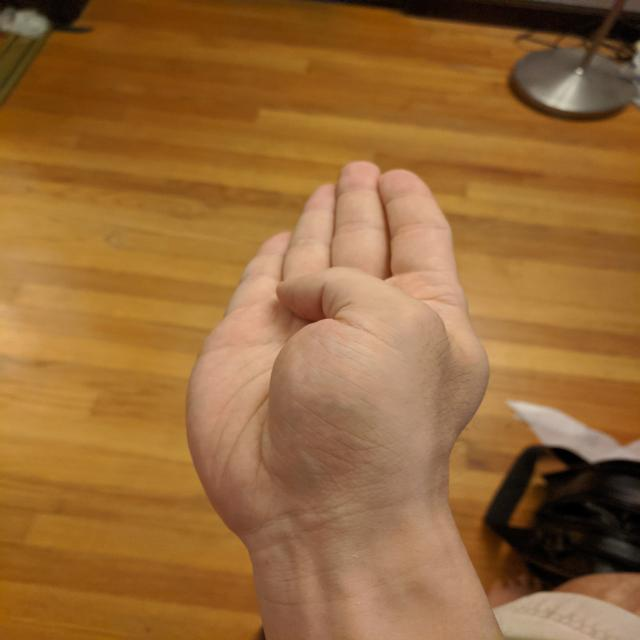B: (173, 149, 500, 567)
